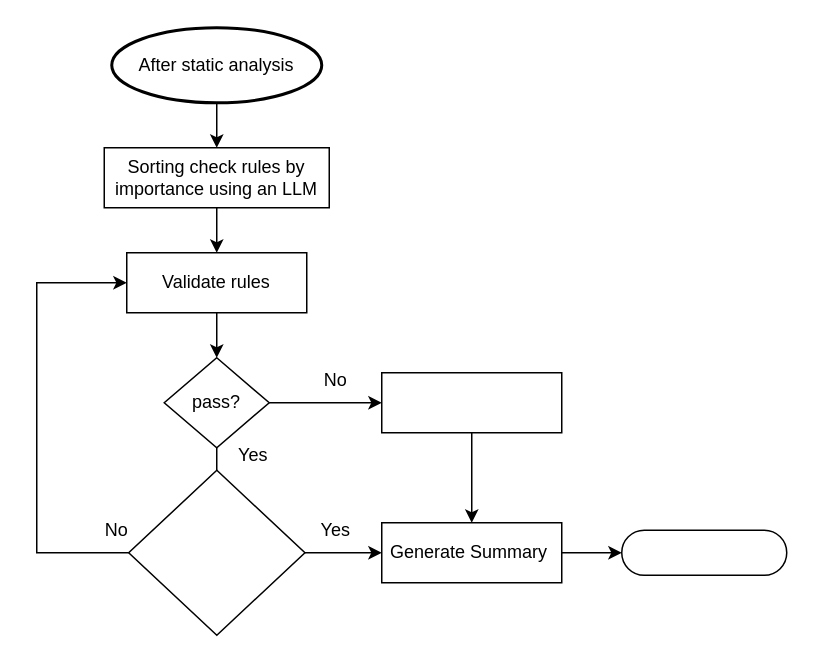
This 813x662 diagram has some shape labels left out. Here are the shapes that lost their labels. From the top down, the centre of each, then its label:
At (x=471, y=402): "Generate Answer".
At (x=216, y=552): "Have all rules been checked?".
At (x=703, y=552): "Post Summary".
